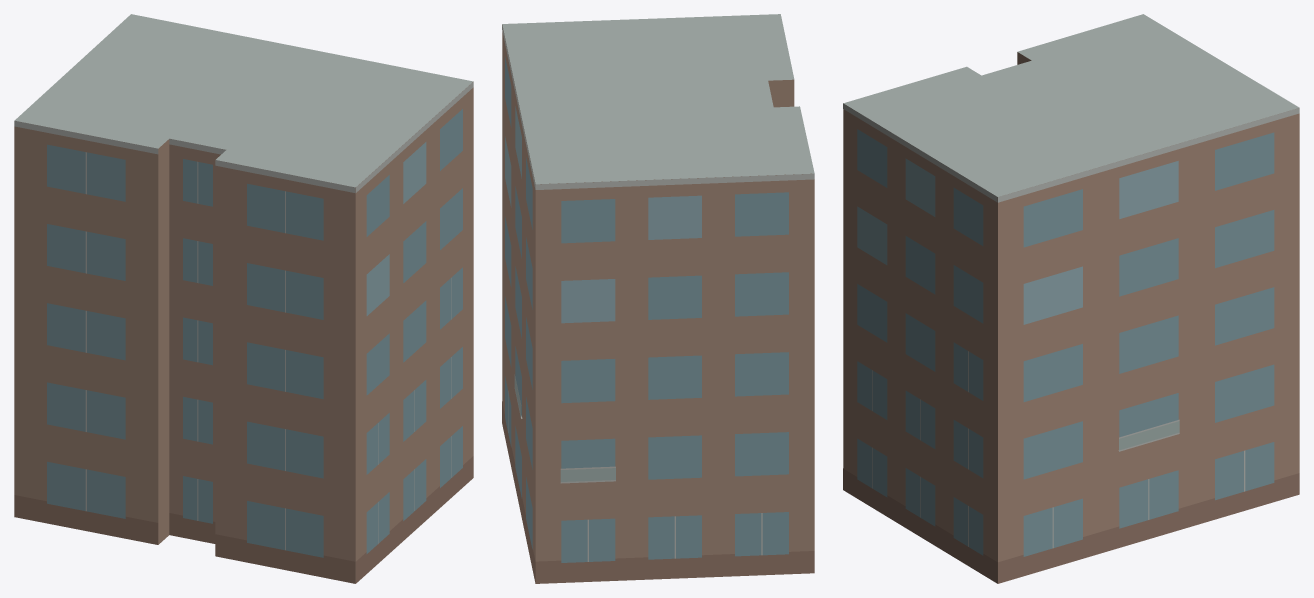
The model's file is survey-upis-32584066.glb.
3 views of the same model, side by side, from view 1: azimuth 30°, elevation 25°; view 2: azimuth 150°, elevation 25°; view 3: azimuth 270°, elevation 25° (orthographic). The views are drawn at different scales.
Visible parts, largest first — view 1: survey-upis-32584066.tmp; view 2: survey-upis-32584066.tmp; view 3: survey-upis-32584066.tmp.
Boxes of the visible parts, box(x1,y1,x2,y2) form: survey-upis-32584066.tmp: box(14, 14, 473, 583); survey-upis-32584066.tmp: box(502, 14, 814, 583); survey-upis-32584066.tmp: box(843, 14, 1299, 583).
Size of the model in its own units: 16.96 by 16.7 by 17.87.
